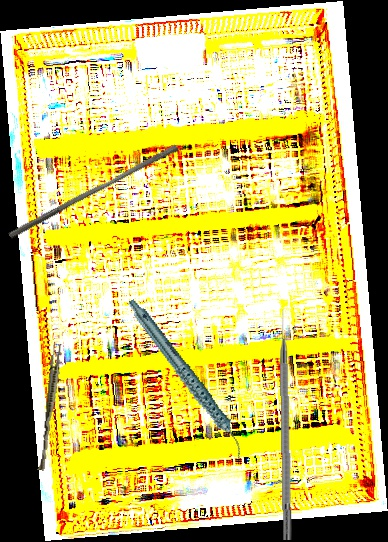Handpiece: (127, 282, 246, 475)
Hook Surgical: (278, 308, 295, 541)
Pusher: (8, 138, 179, 246)
Tissue Forceps: (37, 342, 63, 472)
